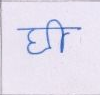i_matra: (49, 19, 68, 53)
